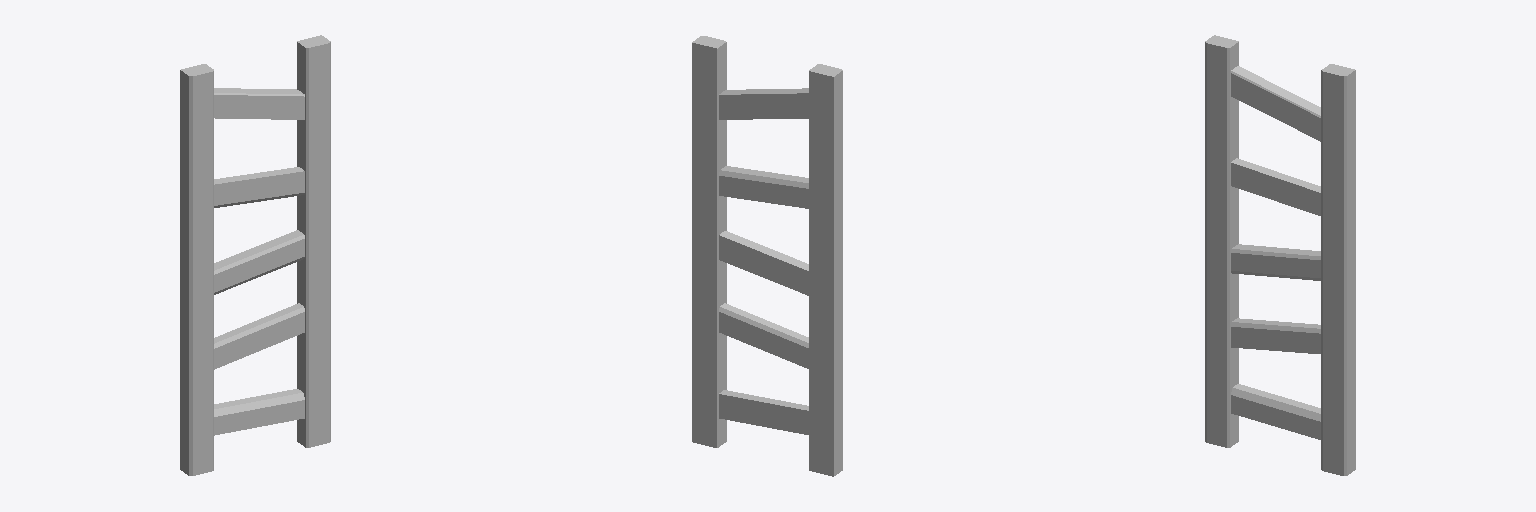
The model's file is ladder.obj.
3 renders of one model, left to right at view 1: azimuth 30°, elevation 25°; view 2: azimuth 150°, elevation 25°; view 3: azimuth 330°, elevation 25°, orthographic.
Parts seen in each view (by area): view 1: Cube, Cube.001, Cube.005, Cube.004, Cube.006, Cube.002, Cube.003; view 2: Cube, Cube.001, Cube.004, Cube.005, Cube.003, Cube.002, Cube.006; view 3: Cube.001, Cube, Cube.002, Cube.006, Cube.003, Cube.004, Cube.005.
Boxes of the visible parts, box(x1,y1,x2,y2) form: Cube: box(180, 64, 213, 475); Cube.001: box(297, 35, 330, 447); Cube.005: box(214, 303, 304, 369); Cube.004: box(214, 230, 304, 294); Cube.006: box(214, 389, 304, 435); Cube.002: box(214, 88, 304, 119); Cube.003: box(214, 167, 304, 207); Cube: box(809, 64, 842, 476); Cube.001: box(692, 36, 726, 447); Cube.004: box(719, 231, 808, 295); Cube.005: box(719, 303, 808, 368); Cube.003: box(719, 166, 808, 208); Cube.002: box(719, 88, 808, 119); Cube.006: box(719, 390, 808, 434); Cube.001: box(1321, 64, 1355, 475); Cube: box(1205, 35, 1238, 447); Cube.002: box(1231, 66, 1320, 141); Cube.006: box(1231, 384, 1320, 439); Cube.003: box(1231, 158, 1320, 215); Cube.004: box(1231, 244, 1320, 280); Cube.005: box(1231, 318, 1320, 353).
Bounding box in the file's own units: 2.8 × 7.55 × 0.3449.